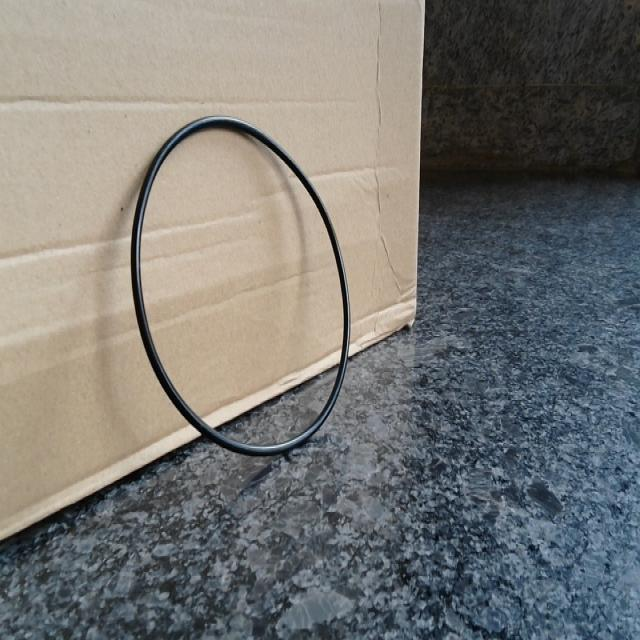black-ring: (131, 117, 351, 457)
